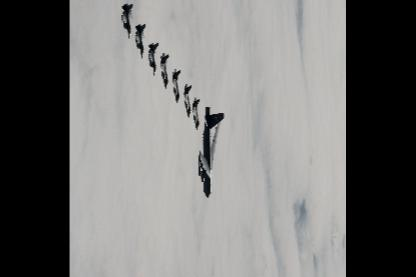B2: (199, 105, 224, 196)
F14: (122, 1, 134, 38), (135, 22, 146, 58), (148, 41, 158, 76)
F22: (161, 50, 170, 86), (172, 67, 180, 102), (185, 82, 192, 116), (193, 95, 200, 128)
